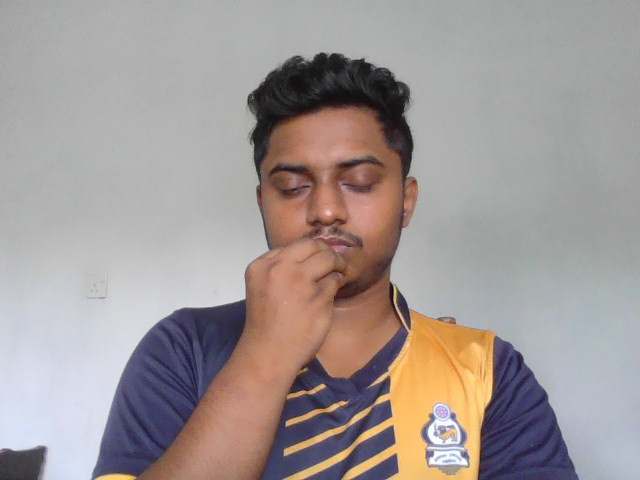Eat: (243, 236, 348, 382)
